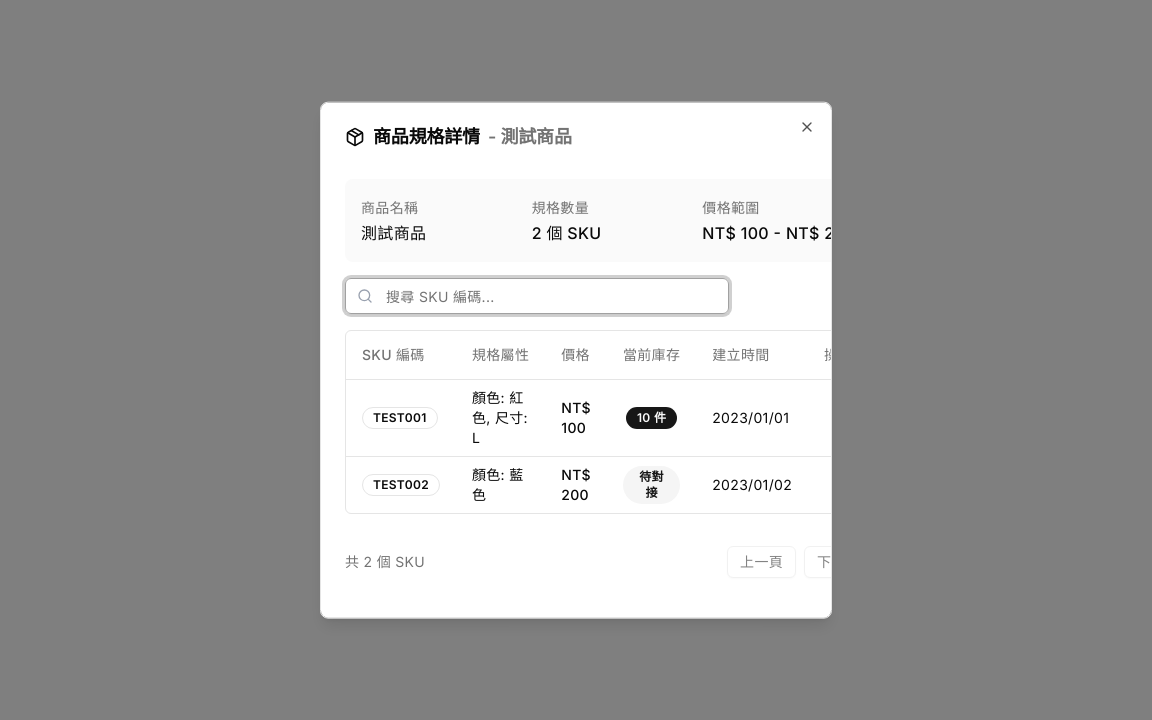
Test: VariantDetailsModal › should handle search functionality
Type "TEST001" into the field with placeholder "搜尋 SKU 編碼..." at {"x": 537, "y": 296}, box [345, 278, 729, 314]
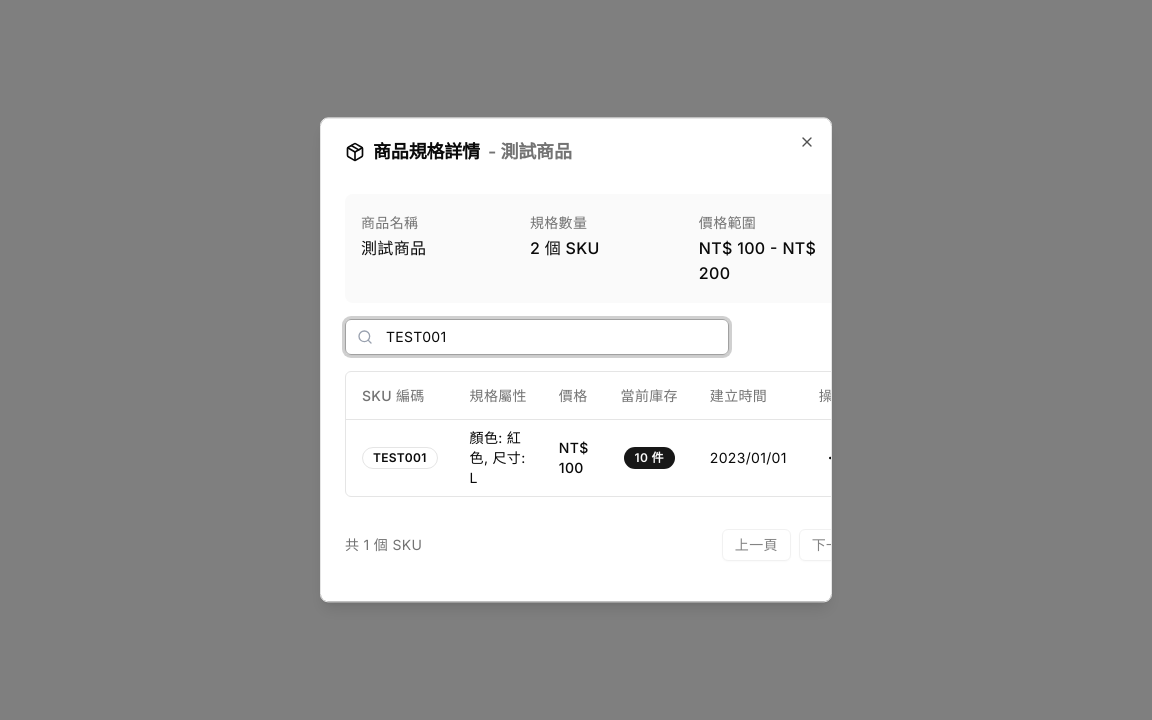
Check: the text "TEST001" is shown, box [362, 448, 438, 470]
Check: the text "TEST002" is gone
